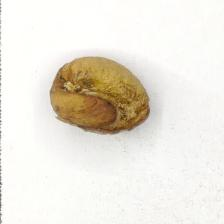NG: (52, 56, 151, 126)
